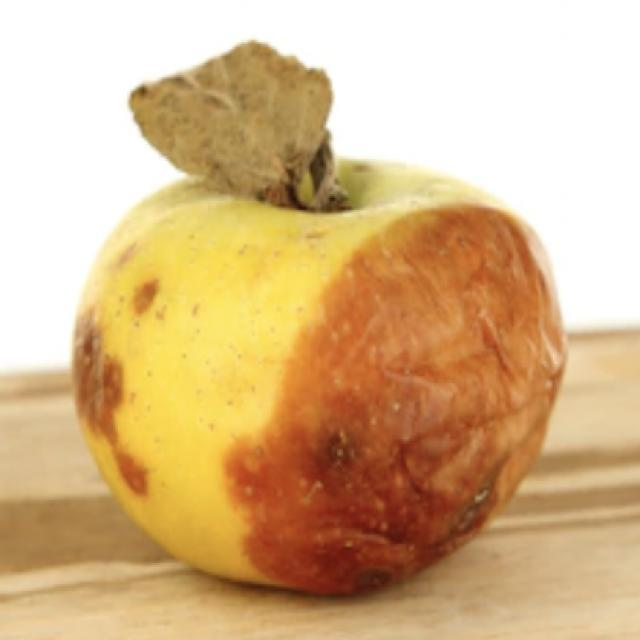Rotten: (88, 150, 547, 592)
